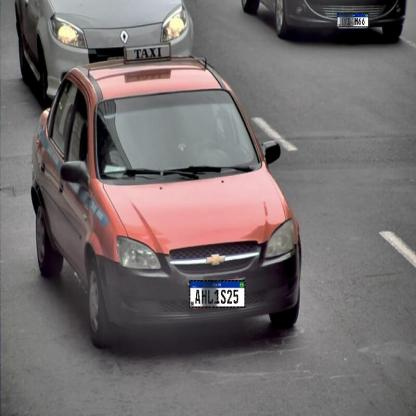PlacaM: (190, 280, 245, 308), (337, 13, 369, 27)
